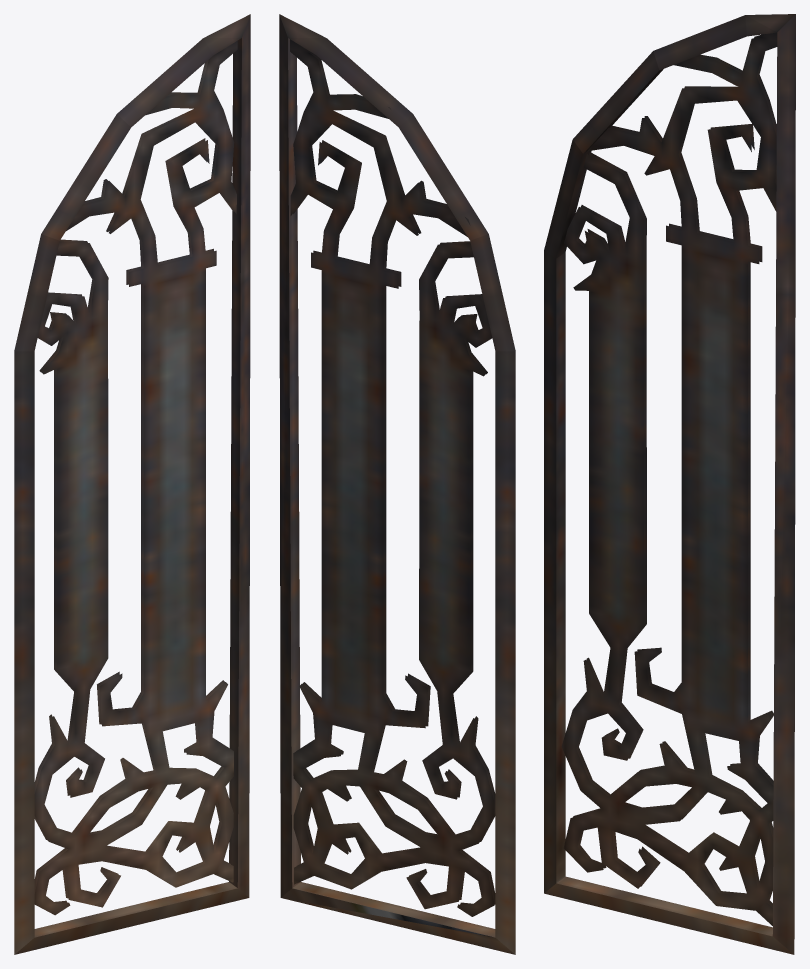
File: SM_EN_2005_tiemen01.FBX
3 renders of one model, left to right at view 1: azimuth 30°, elevation 25°; view 2: azimuth 150°, elevation 25°; view 3: azimuth 330°, elevation 25°, orthographic. The views are drawn at different scales.
Parts seen in each view (by area): view 1: SM_EN_2005_tiemen01; view 2: SM_EN_2005_tiemen01; view 3: SM_EN_2005_tiemen01.
Part boxes in pixels (x1=…): SM_EN_2005_tiemen01: x1=14, y1=14, x2=250, y2=954; SM_EN_2005_tiemen01: x1=279, y1=14, x2=515, y2=954; SM_EN_2005_tiemen01: x1=544, y1=14, x2=795, y2=954.
Size of the model in its own units: 33.59 by 120 by 2.16.
